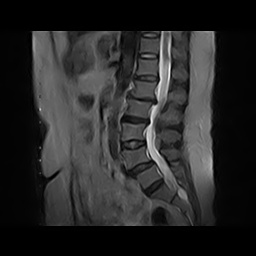L1,v2: (130, 79, 157, 96)
L1-L2,v3: (128, 90, 155, 107)
L2,v2: (125, 99, 152, 116)
L2-L3,v3: (120, 111, 147, 128)
L3,v2: (119, 122, 146, 139)
L3-L4,v4: (119, 135, 146, 152)
L4,v2: (122, 148, 149, 165)
L4-L5,v4: (127, 158, 154, 175)
L5,v2: (136, 169, 163, 186)
L5-S1,v4: (142, 177, 169, 194)
T12-L1,v3: (133, 69, 160, 86)
